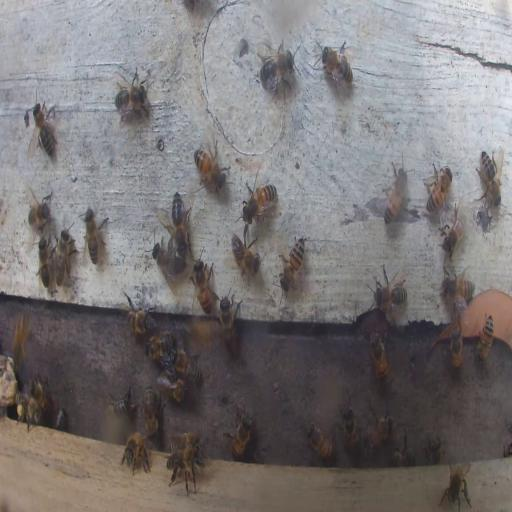nonpollenbee: (257, 43, 296, 94), (112, 66, 150, 118), (371, 263, 407, 316), (319, 39, 354, 92), (382, 160, 408, 226), (29, 99, 57, 160), (193, 144, 227, 194), (168, 444, 202, 494), (439, 461, 472, 511), (476, 150, 503, 210), (242, 180, 278, 224), (424, 161, 452, 214), (191, 252, 215, 313), (280, 236, 307, 290), (225, 408, 253, 459), (84, 204, 107, 266), (217, 287, 238, 353), (166, 193, 190, 249), (54, 224, 75, 288), (120, 294, 151, 336), (230, 234, 260, 276), (439, 210, 465, 258), (122, 431, 151, 474), (364, 405, 392, 448), (306, 422, 334, 462), (152, 241, 180, 280), (369, 331, 388, 383), (142, 386, 160, 440), (446, 271, 476, 303), (388, 432, 416, 466), (475, 314, 494, 364), (144, 329, 174, 360), (173, 347, 201, 380), (26, 193, 52, 228), (446, 321, 463, 373), (109, 385, 135, 419), (160, 371, 186, 404), (168, 431, 200, 457), (37, 235, 52, 289), (29, 377, 50, 415), (342, 407, 358, 455), (17, 398, 39, 426), (426, 438, 442, 463), (54, 406, 68, 430)
pollenbee: (12, 306, 30, 372), (17, 397, 38, 426)
